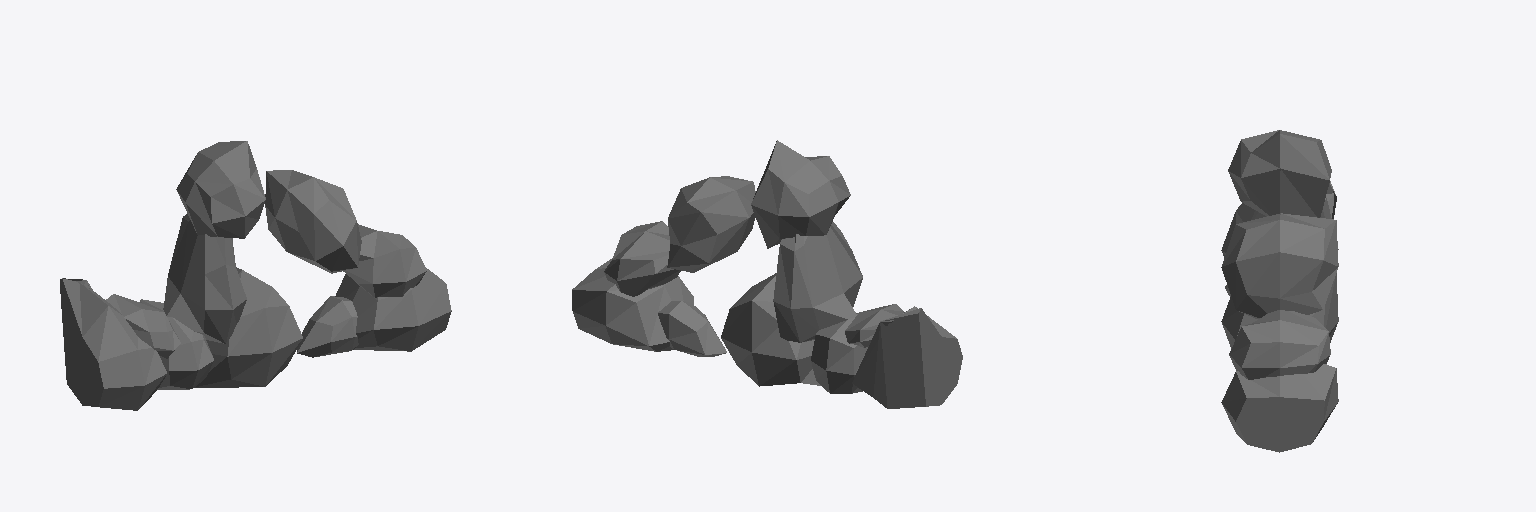
The model's file is Land3.obj.
3 views of the same model, side by side, from view 1: azimuth 30°, elevation 25°; view 2: azimuth 150°, elevation 25°; view 3: azimuth 270°, elevation 25° (orthographic).
Visible parts, largest first — view 1: Land3:group1 Land3:pCube12 Land3:polySurface2 Land3:polySurface1, Land3:group1 Land3:pCube6 Land3:polySurface2 Land3:polySurface1, Land3:group1 Land3:pCube9 Land3:polySurface2 Land3:polySurface1, Land3:group1 Land3:pCube8 Land3:polySurface2 Land3:polySurface1, Land3:group1 Land3:pCube2 Land3:polySurface2 Land3:polySurface1, Land3:group1 Land3:pCube4 Land3:polySurface2 Land3:polySurface1, Land3:group1 Land3:pCube3 Land3:polySurface2 Land3:polySurface1, Land3:group1 Land3:pCube7 Land3:polySurface2 Land3:polySurface1, Land3:group1 Land3:pCube10 Land3:polySurface2 Land3:polySurface1, Land3:group1 Land3:pCube11 Land3:polySurface2 Land3:polySurface1; view 2: Land3:group1 Land3:pCube12 Land3:polySurface2 Land3:polySurface1, Land3:group1 Land3:pCube9 Land3:polySurface2 Land3:polySurface1, Land3:group1 Land3:pCube2 Land3:polySurface2 Land3:polySurface1, Land3:group1 Land3:pCube6 Land3:polySurface2 Land3:polySurface1, Land3:group1 Land3:pCube8 Land3:polySurface2 Land3:polySurface1, Land3:group1 Land3:pCube4 Land3:polySurface2 Land3:polySurface1, Land3:group1 Land3:pCube3 Land3:polySurface2 Land3:polySurface1, Land3:group1 Land3:pCube10 Land3:polySurface2 Land3:polySurface1, Land3:group1 Land3:pCube7 Land3:polySurface2 Land3:polySurface1, Land3:group1 Land3:pCube11 Land3:polySurface2 Land3:polySurface1; view 3: Land3:group1 Land3:pCube6 Land3:polySurface2 Land3:polySurface1, Land3:group1 Land3:pCube4 Land3:polySurface2 Land3:polySurface1, Land3:group1 Land3:pCube2 Land3:polySurface2 Land3:polySurface1, Land3:group1 Land3:pCube3 Land3:polySurface2 Land3:polySurface1, Land3:group1 Land3:pCube8 Land3:polySurface2 Land3:polySurface1, Land3:group1 Land3:pCube9 Land3:polySurface2 Land3:polySurface1.
Boxes of the visible parts, x1=… form: Land3:group1 Land3:pCube12 Land3:polySurface2 Land3:polySurface1: x1=60, y1=278, x2=166, y2=410; Land3:group1 Land3:pCube6 Land3:polySurface2 Land3:polySurface1: x1=265, y1=170, x2=361, y2=273; Land3:group1 Land3:pCube9 Land3:polySurface2 Land3:polySurface1: x1=163, y1=214, x2=246, y2=343; Land3:group1 Land3:pCube8 Land3:polySurface2 Land3:polySurface1: x1=194, y1=267, x2=302, y2=387; Land3:group1 Land3:pCube2 Land3:polySurface2 Land3:polySurface1: x1=176, y1=141, x2=265, y2=238; Land3:group1 Land3:pCube4 Land3:polySurface2 Land3:polySurface1: x1=335, y1=268, x2=451, y2=351; Land3:group1 Land3:pCube3 Land3:polySurface2 Land3:polySurface1: x1=343, y1=224, x2=426, y2=297; Land3:group1 Land3:pCube7 Land3:polySurface2 Land3:polySurface1: x1=297, y1=296, x2=358, y2=357; Land3:group1 Land3:pCube10 Land3:polySurface2 Land3:polySurface1: x1=140, y1=299, x2=213, y2=389; Land3:group1 Land3:pCube11 Land3:polySurface2 Land3:polySurface1: x1=106, y1=294, x2=180, y2=358; Land3:group1 Land3:pCube12 Land3:polySurface2 Land3:polySurface1: x1=852, y1=306, x2=962, y2=408; Land3:group1 Land3:pCube9 Land3:polySurface2 Land3:polySurface1: x1=773, y1=222, x2=862, y2=342; Land3:group1 Land3:pCube2 Land3:polySurface2 Land3:polySurface1: x1=751, y1=140, x2=850, y2=248; Land3:group1 Land3:pCube6 Land3:polySurface2 Land3:polySurface1: x1=667, y1=176, x2=755, y2=272; Land3:group1 Land3:pCube8 Land3:polySurface2 Land3:polySurface1: x1=721, y1=273, x2=820, y2=386; Land3:group1 Land3:pCube4 Land3:polySurface2 Land3:polySurface1: x1=572, y1=259, x2=693, y2=351; Land3:group1 Land3:pCube3 Land3:polySurface2 Land3:polySurface1: x1=604, y1=221, x2=680, y2=296; Land3:group1 Land3:pCube10 Land3:polySurface2 Land3:polySurface1: x1=811, y1=313, x2=867, y2=393; Land3:group1 Land3:pCube7 Land3:polySurface2 Land3:polySurface1: x1=658, y1=301, x2=726, y2=356; Land3:group1 Land3:pCube11 Land3:polySurface2 Land3:polySurface1: x1=845, y1=304, x2=903, y2=347; Land3:group1 Land3:pCube6 Land3:polySurface2 Land3:polySurface1: x1=1221, y1=213, x2=1338, y2=318; Land3:group1 Land3:pCube4 Land3:polySurface2 Land3:polySurface1: x1=1221, y1=364, x2=1338, y2=452; Land3:group1 Land3:pCube2 Land3:polySurface2 Land3:polySurface1: x1=1228, y1=130, x2=1331, y2=217; Land3:group1 Land3:pCube3 Land3:polySurface2 Land3:polySurface1: x1=1229, y1=310, x2=1330, y2=379; Land3:group1 Land3:pCube8 Land3:polySurface2 Land3:polySurface1: x1=1221, y1=273, x2=1338, y2=348; Land3:group1 Land3:pCube9 Land3:polySurface2 Land3:polySurface1: x1=1221, y1=198, x2=1338, y2=257.
Bounding box in the file's own units: 5.97 × 3.88 × 1.75.